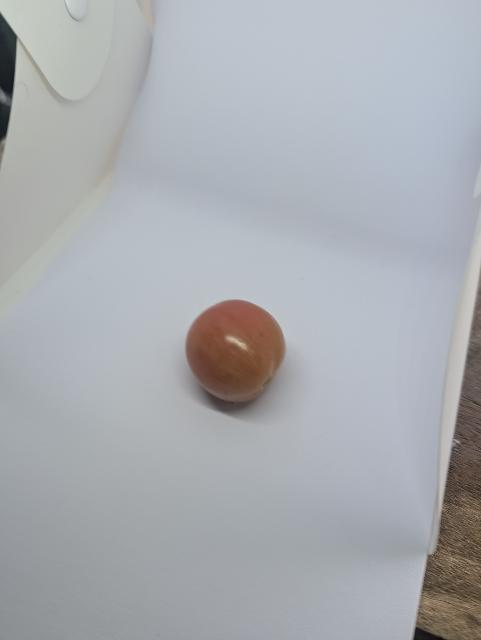turning: (180, 299, 291, 409)
